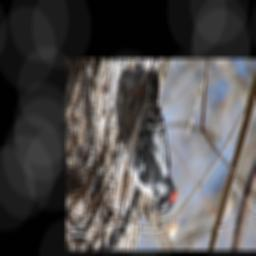Woodpecker: (125, 68, 180, 217)
